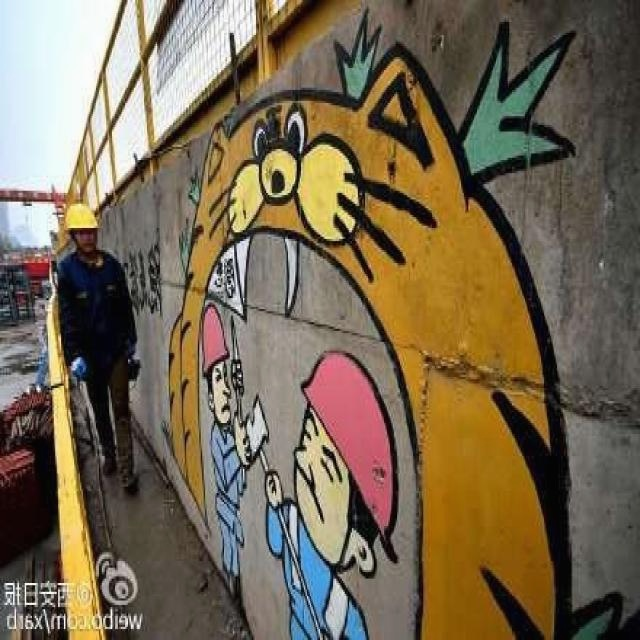Con_Casco: (64, 202, 100, 255)
